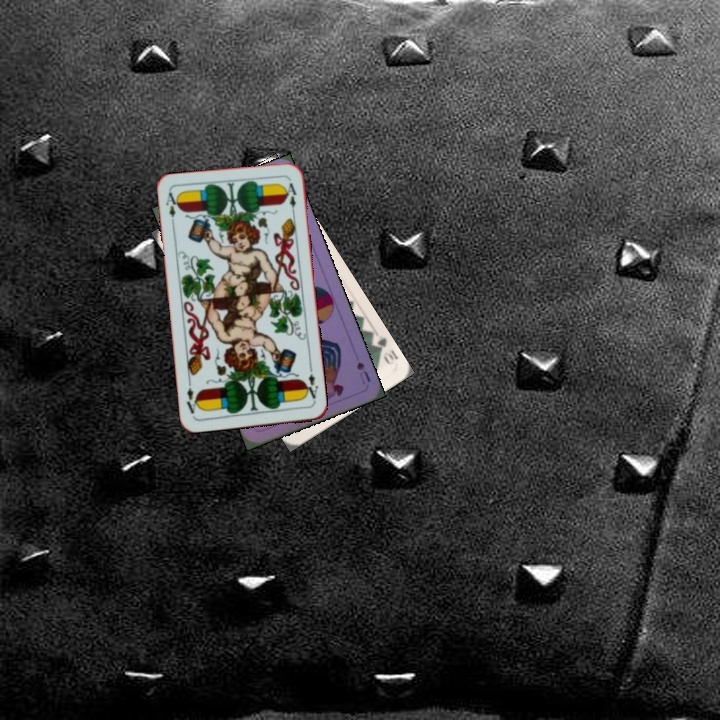EA: (162, 188, 181, 229), (300, 370, 321, 404)
G10: (367, 332, 400, 367)
SU: (352, 358, 373, 387)
